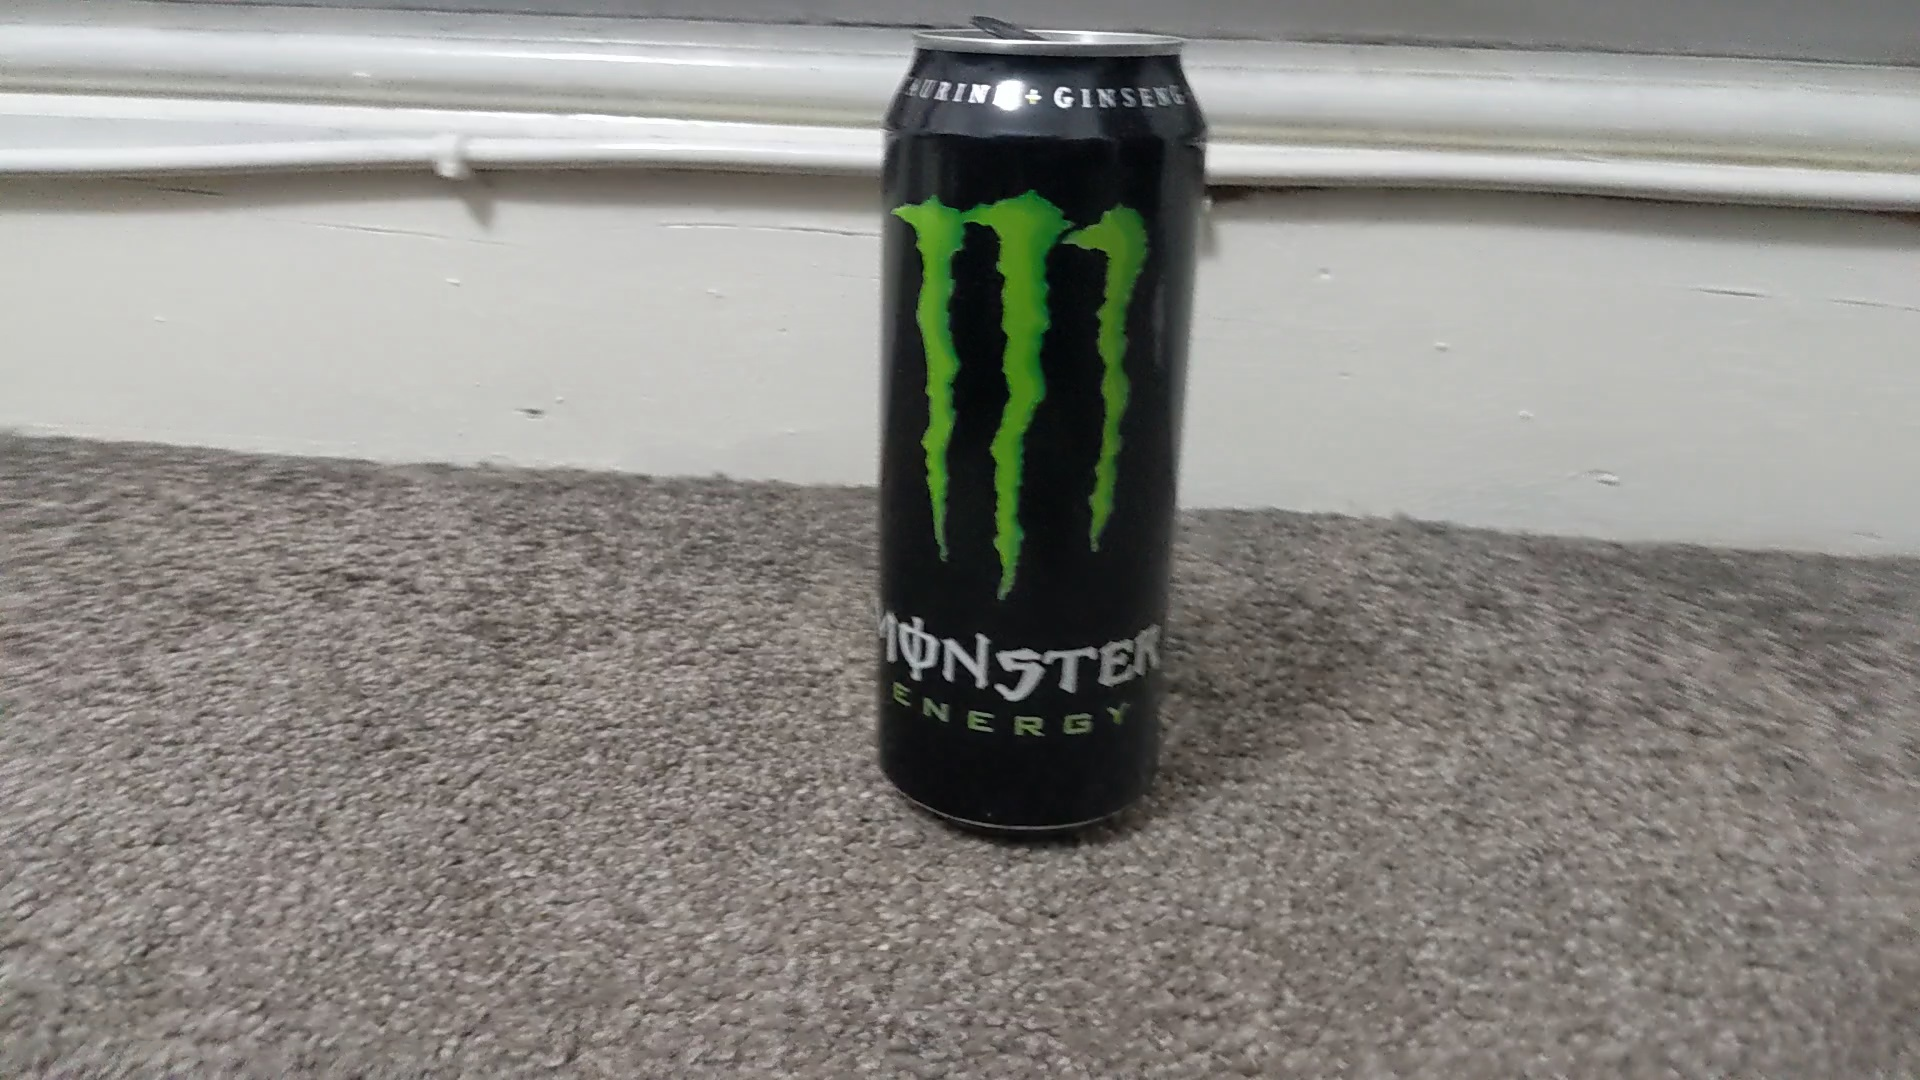monster-original: (876, 32, 1208, 841)
